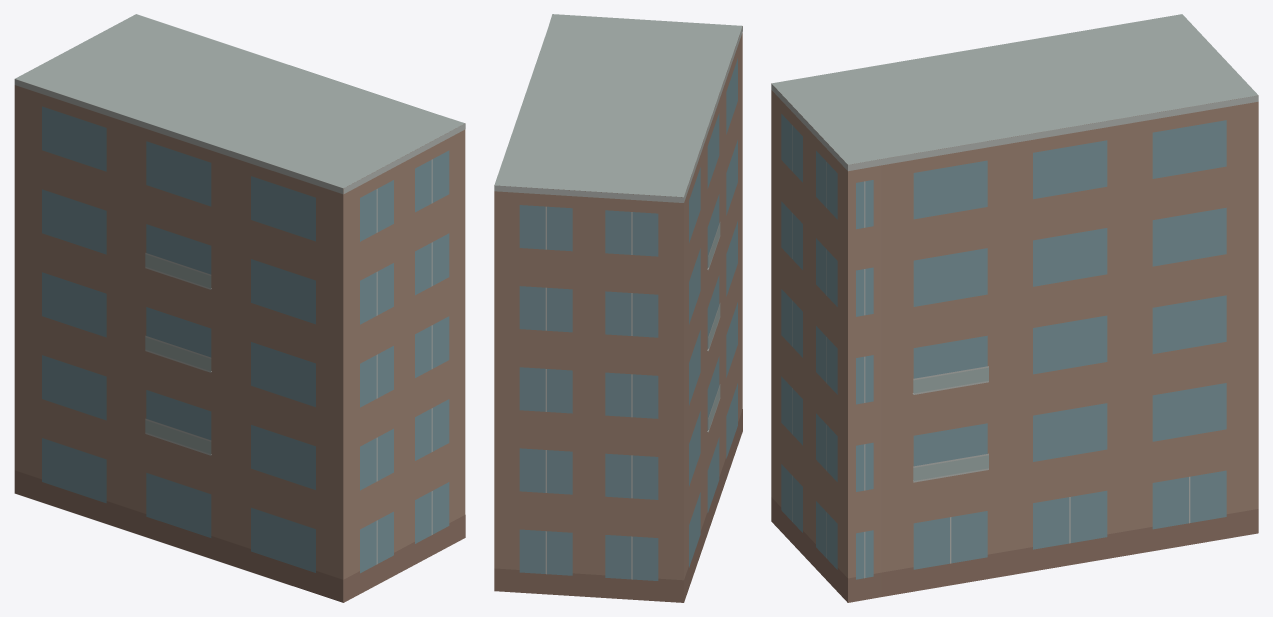
The model's file is survey-upis-32881901.glb.
The picture shows the model from 3 angles, left to right: view 1: azimuth 30°, elevation 25°; view 2: azimuth 150°, elevation 25°; view 3: azimuth 270°, elevation 25°; orthographic projection. The views are drawn at different scales.
Visible parts, largest first — view 1: survey-upis-32881901.tmp; view 2: survey-upis-32881901.tmp; view 3: survey-upis-32881901.tmp.
Part boxes in pixels (bbox=[...]): survey-upis-32881901.tmp: bbox=[14, 14, 465, 602]; survey-upis-32881901.tmp: bbox=[494, 14, 742, 602]; survey-upis-32881901.tmp: bbox=[771, 14, 1258, 602].
Bounding box in the file's own units: 12.42 × 16.8 × 16.95.
